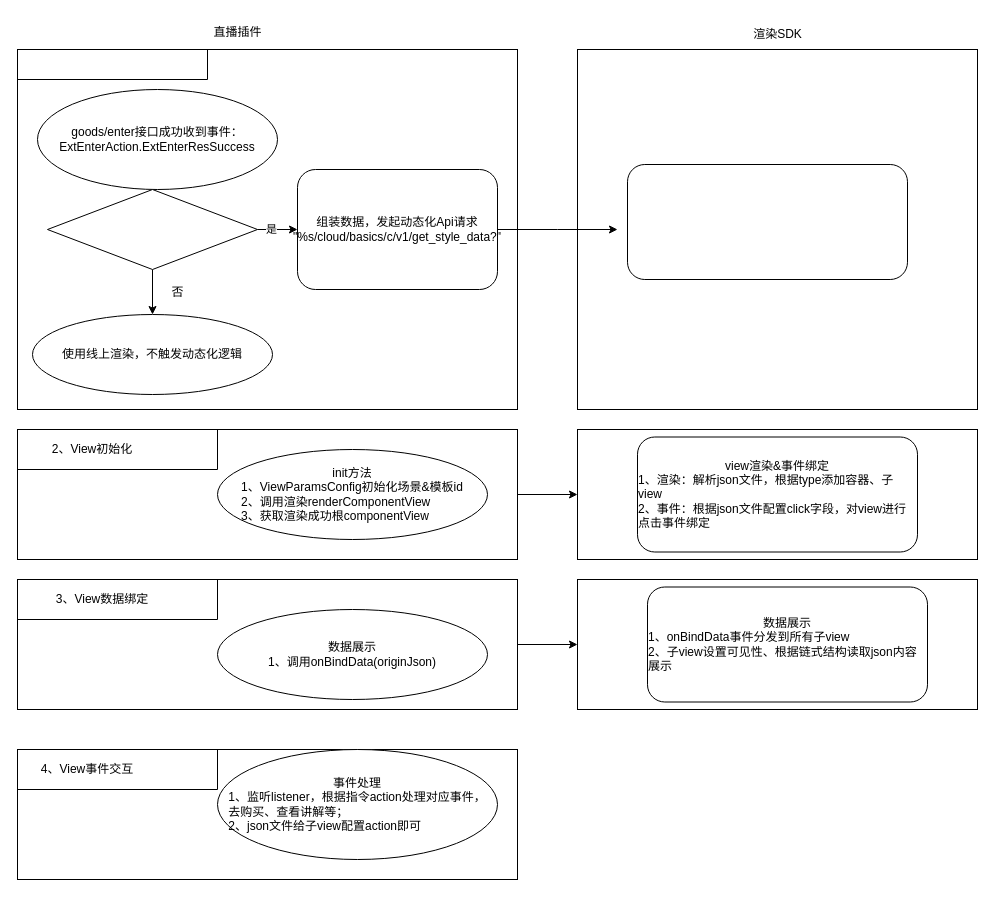
Some shapes in this 995 by 897 pixel diagram are drawn without their labels. Each missing label, with the centre of its shape:
"1、进入直播间" goes at point 112,64.
"处理server数据 1、modify：保存内存中，执行render时候，根据id合并，完成最终json渲染 2、replaceAll结构：更新内存、sp缓存" goes at point 767,222.
"是否满足动态化条件 （手百App、动态化开关）" goes at point 152,229.
